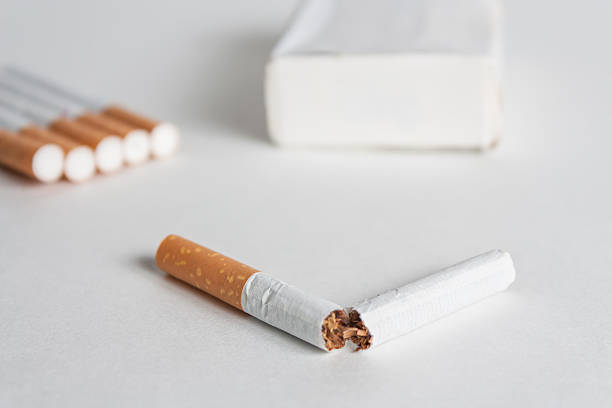cigarette: (265, 0, 510, 153), (155, 231, 348, 353), (0, 61, 180, 157), (346, 248, 516, 349), (0, 68, 150, 167), (0, 85, 125, 175), (0, 104, 96, 183), (0, 128, 64, 183)
